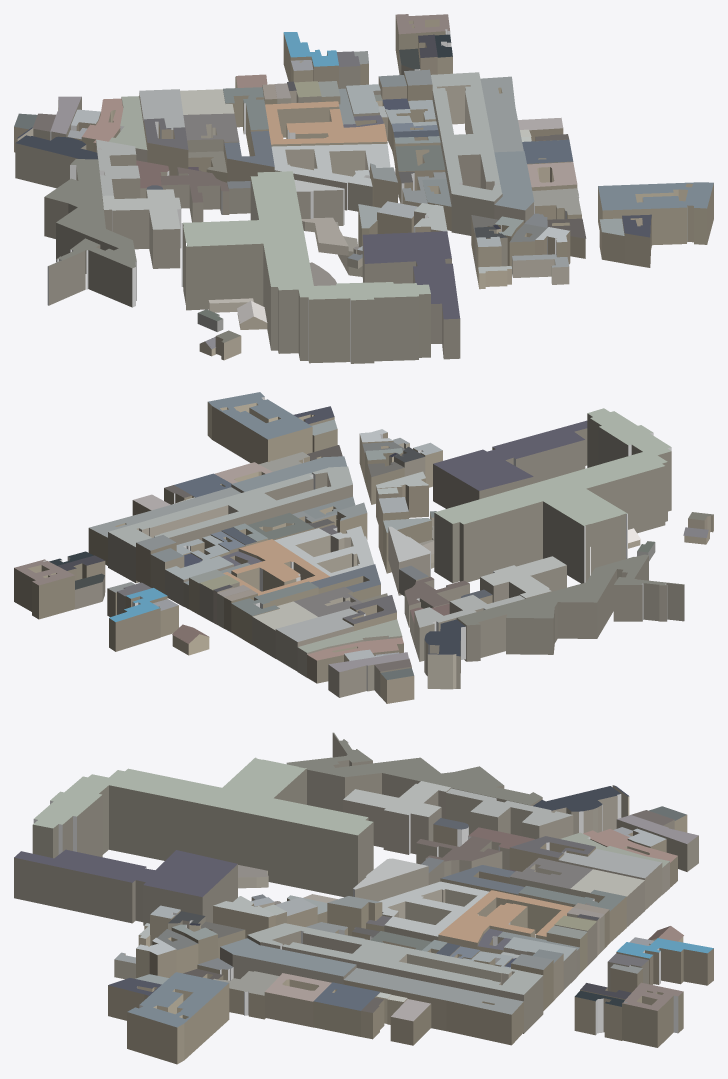
3 views of the same model, one above another, from view 1: azimuth 30°, elevation 25°; view 2: azimuth 150°, elevation 25°; view 3: azimuth 270°, elevation 25° (orthographic). The views are drawn at different scales.
Visible parts, largest first — view 1: tuile; view 2: tuile; view 3: tuile.
Part boxes in pixels (x1=…): tuile: x1=14, y1=14, x2=713, y2=363; tuile: x1=14, y1=392, x2=713, y2=703; tuile: x1=14, y1=732, x2=713, y2=1064.
Bounding box in the file's own units: 319 × 46.11 × 324.
